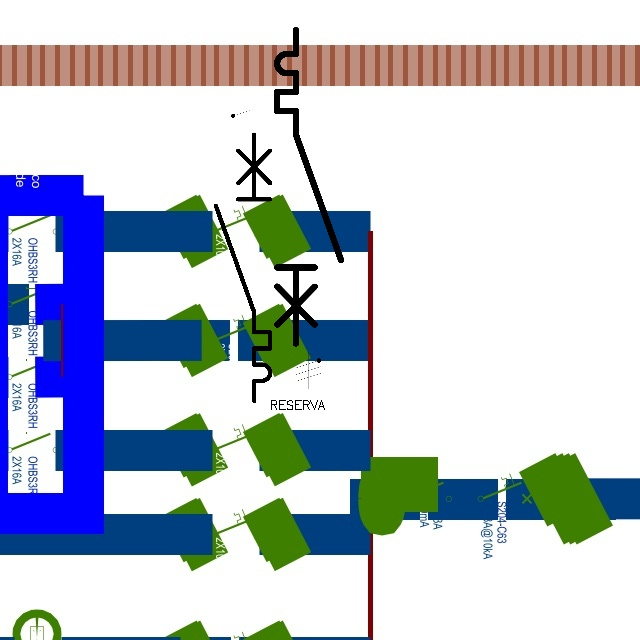interruptor_termomagnetico: (269, 22, 349, 351), (209, 127, 277, 407)
